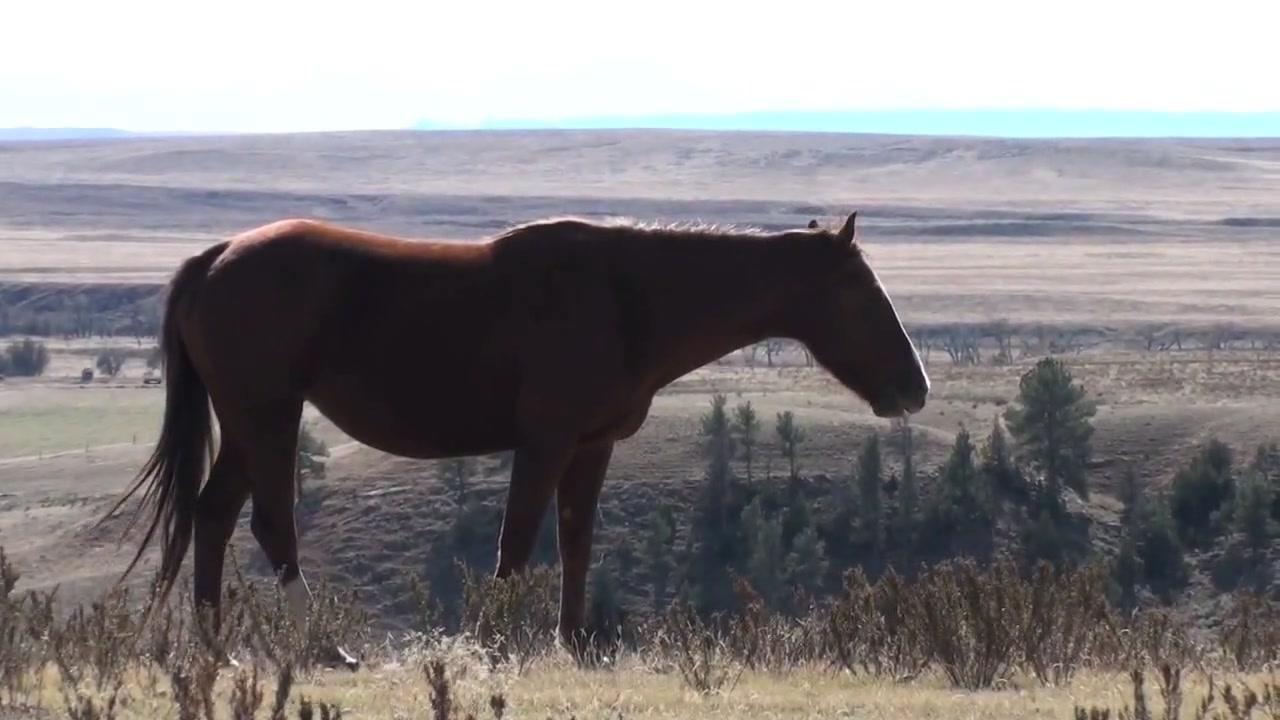horse: (92, 210, 934, 679)
